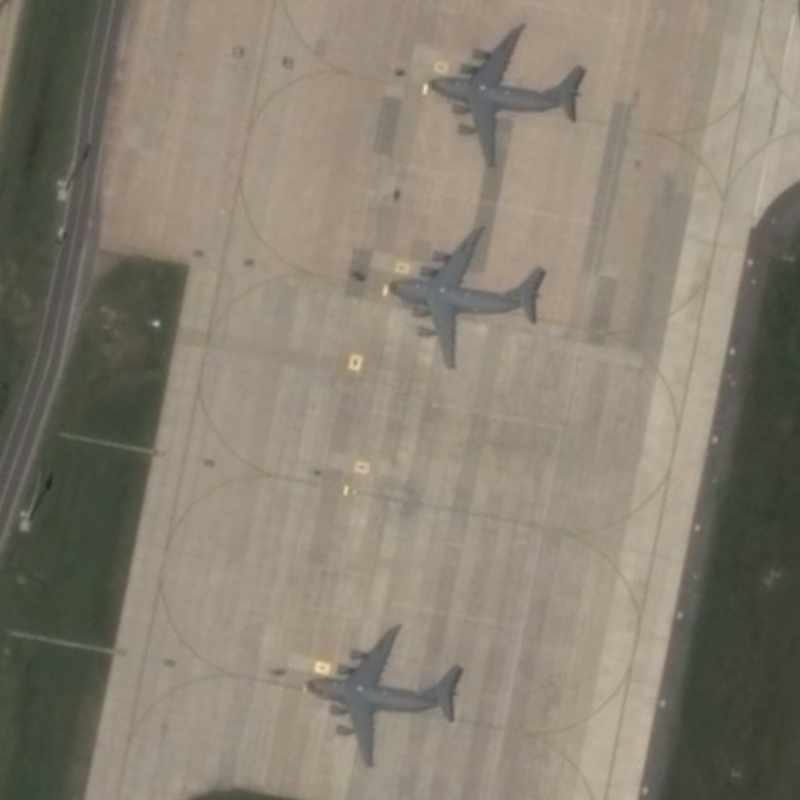A3: (380, 216, 552, 378), (418, 17, 590, 174), (303, 619, 471, 774)
